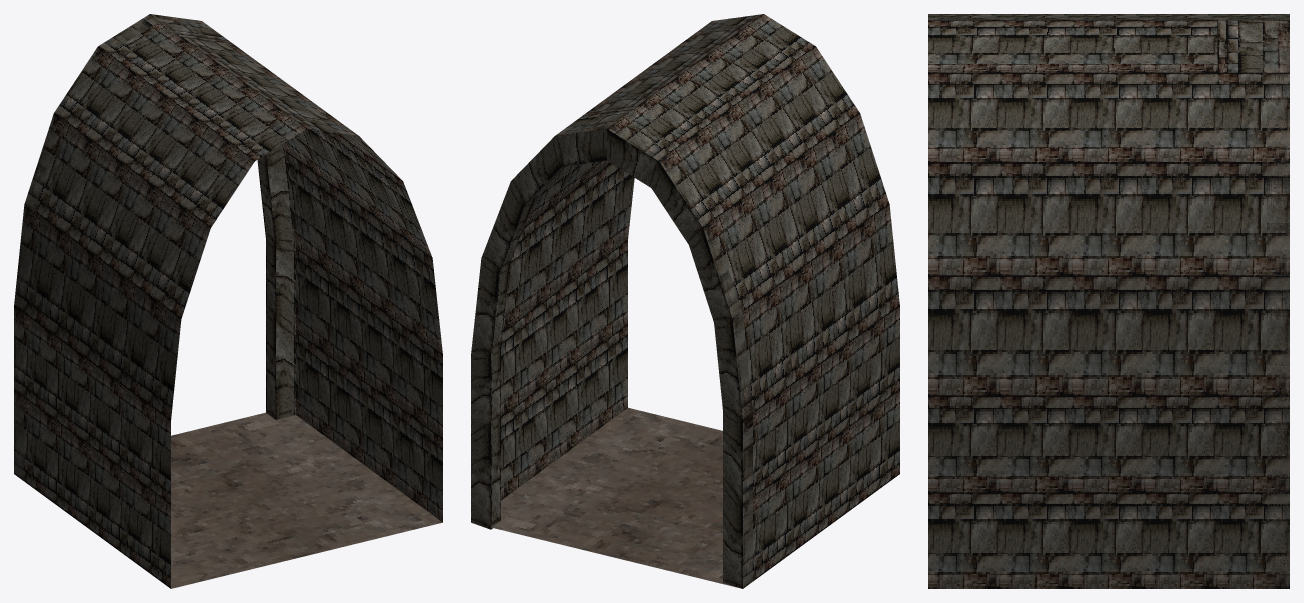
Rendered from dungeon_corridor_model.gltf.
The picture shows the model from 3 angles, left to right: view 1: azimuth 30°, elevation 25°; view 2: azimuth 150°, elevation 25°; view 3: azimuth 270°, elevation 25°; orthographic projection. The views are drawn at different scales.
Visible parts, largest first — view 1: Cube; view 2: Cube; view 3: Cube.
Part boxes in pixels (x1=…): Cube: x1=14, y1=14, x2=442, y2=588; Cube: x1=471, y1=14, x2=899, y2=588; Cube: x1=928, y1=14, x2=1289, y2=588.
Size of the model in its own units: 2 by 3.02 by 2.
2 materials, 2 textured.
